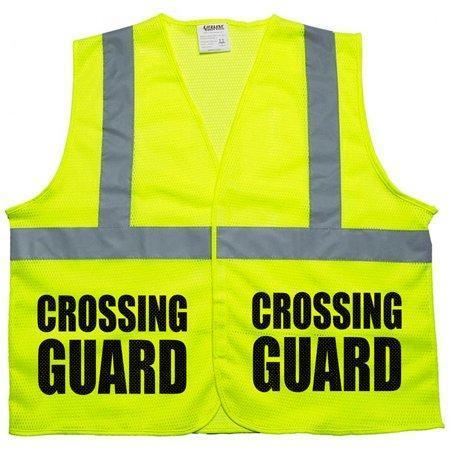vest: (4, 8, 446, 438)
